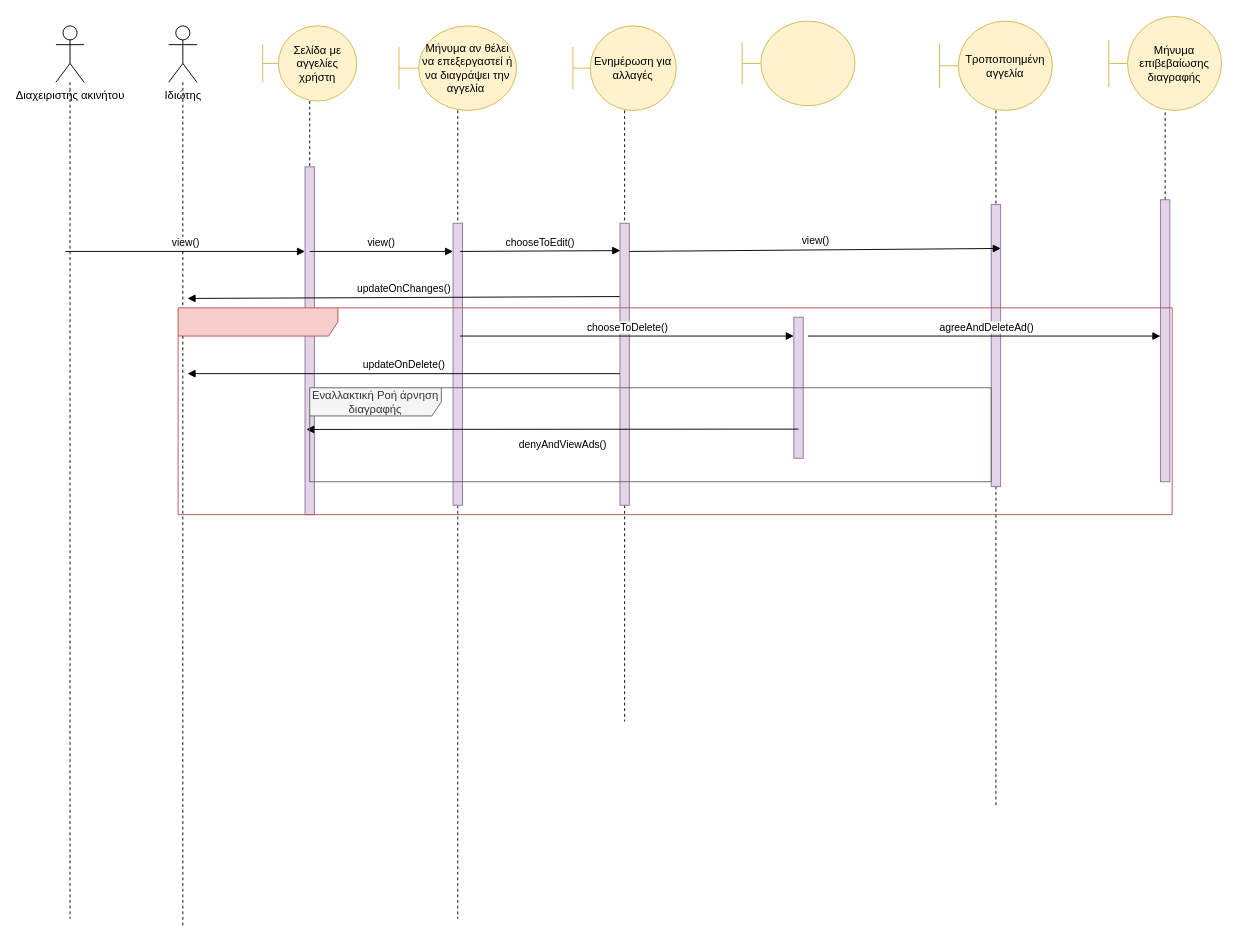
Image size: 1238x946. Some labels were removed from this diagram. Each missing label, with the box of its shape:
Εναλλακτική Ροή επιβεβαίωση διαγραφή αγγελίας: (177, 307, 1172, 515)
Μήνυμα επιβεβαίωσης ενέργειας: (741, 20, 855, 106)
